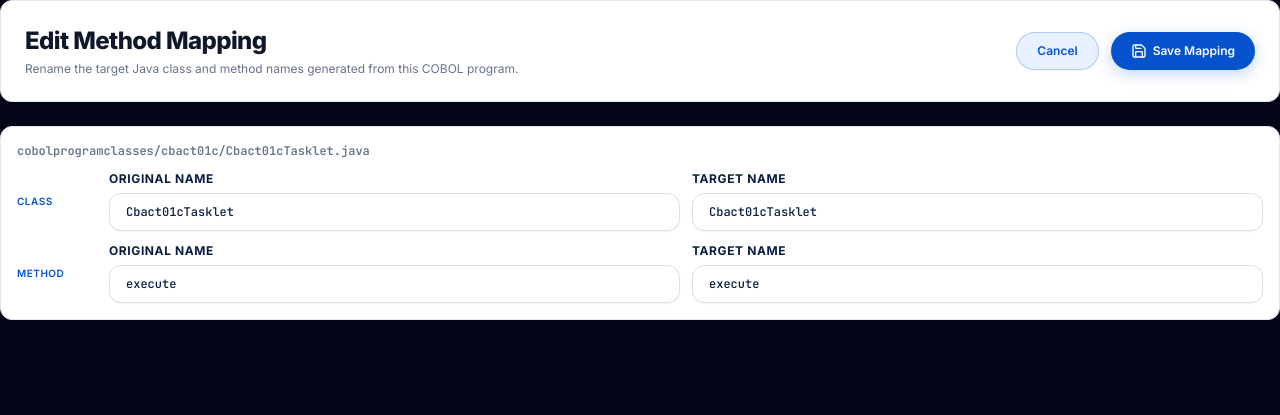
Scenario: MethodMappingPage › disables saving and shows a validation warning for an invalid Java identifier
Replace the text in the 1st field showing "Cbact01cTasklet" with "Not A Valid Name" at (978, 212), box [692,193,1263,231]
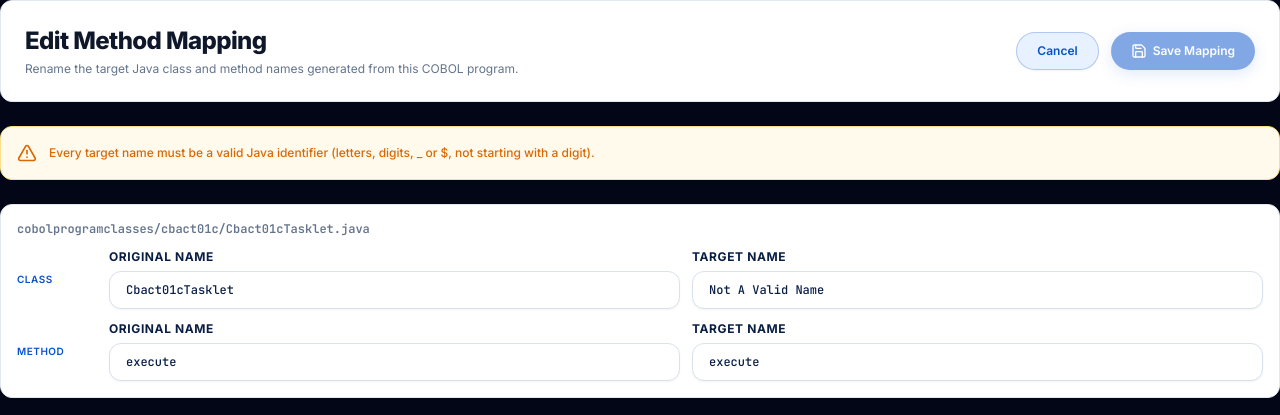
Expected: the text "must be a valid Java identifier" is shown, [49,145,595,160]
Expected: the button "Save Mapping" is disabled, [1111,32,1255,70]
